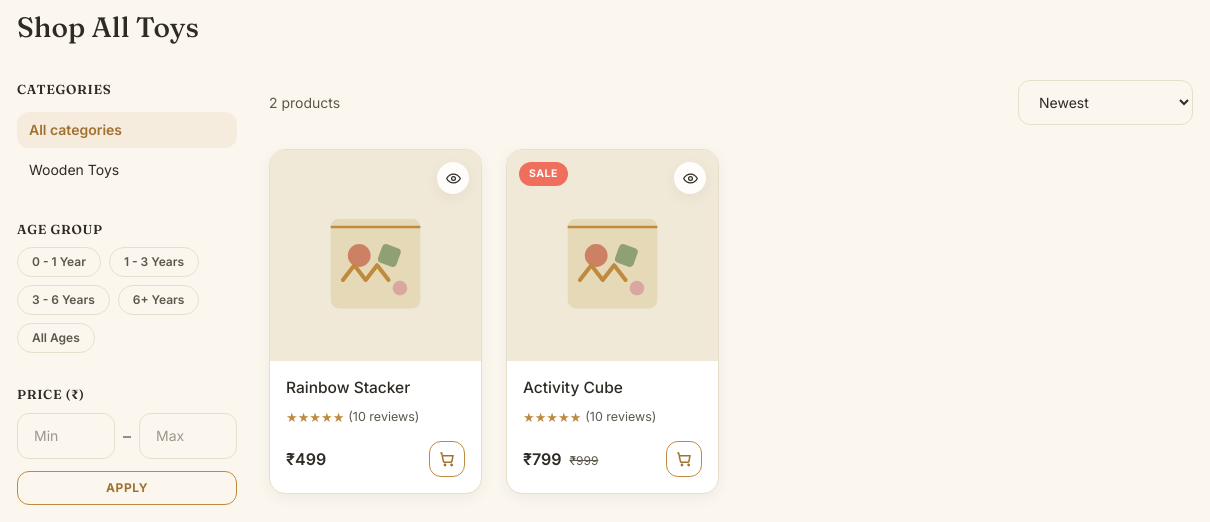
Test case: ShopPage age filter › re-queries /products with the selected ageGroup and updates the results
Expected: the link "Rainbow Stacker" is shown, [286,378,410,397]
Expected: the link "Activity Cube" is shown, [523,378,623,397]
Click the button "0 - 1 Year": (59, 262) [17,247,101,277]
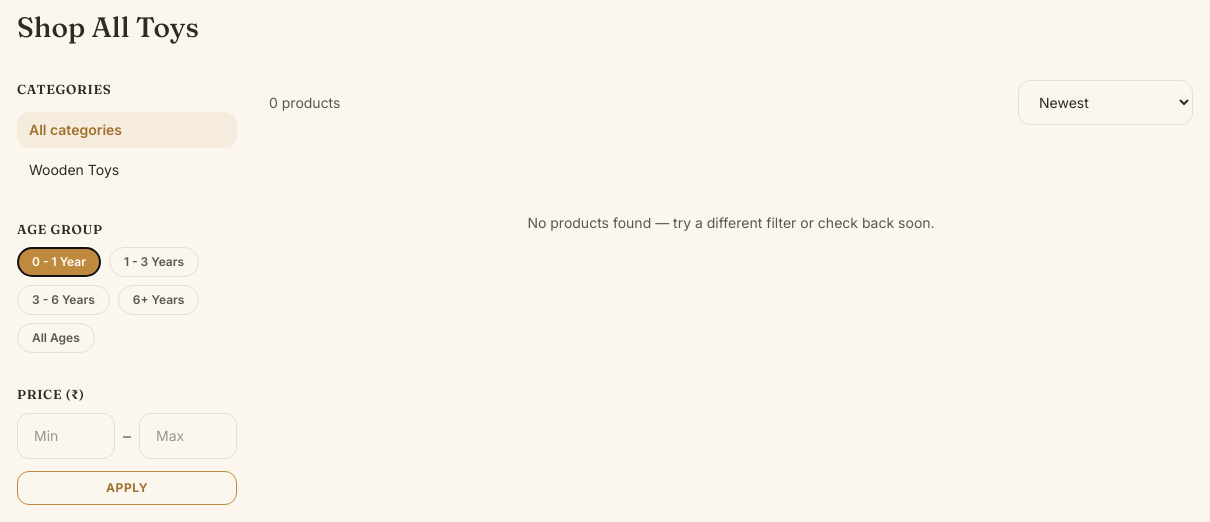
Expected: the text "No products found" is shown, [527,214,935,231]
Note: Toggling the same chip off re-queries with no age filter again.
Click the button "0 - 1 Year": (59, 262) [17,247,101,277]
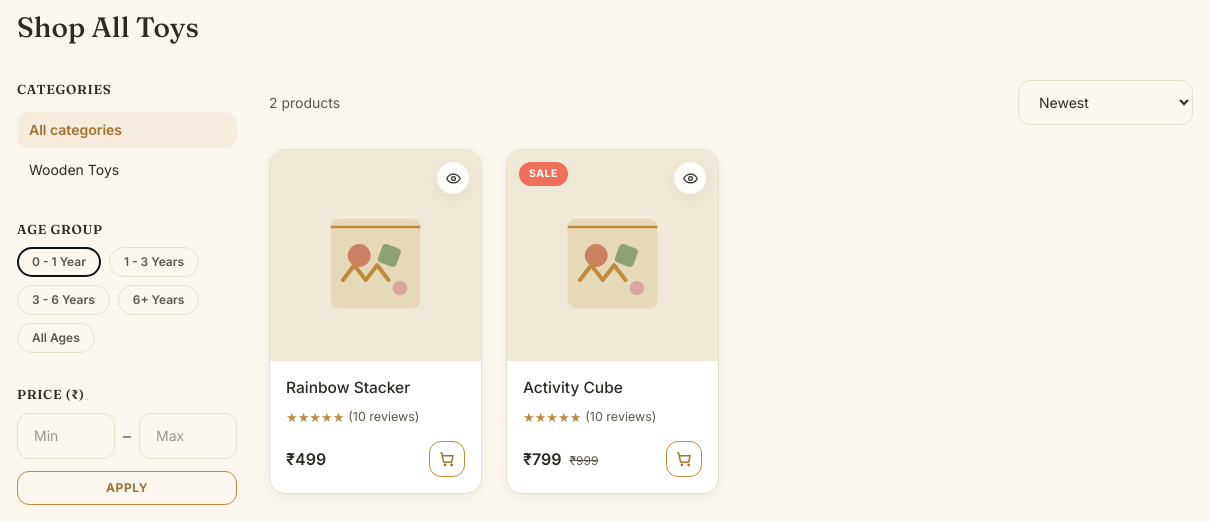
Expected: the link "Rainbow Stacker" is shown, [286,378,410,397]
